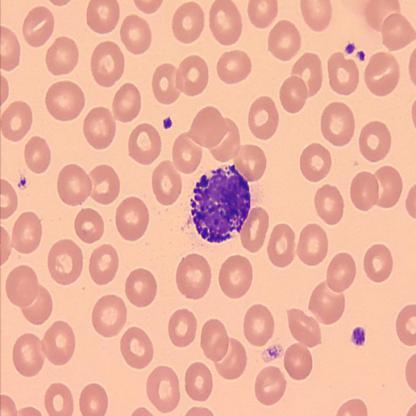Basophil: (186, 162, 252, 245)
